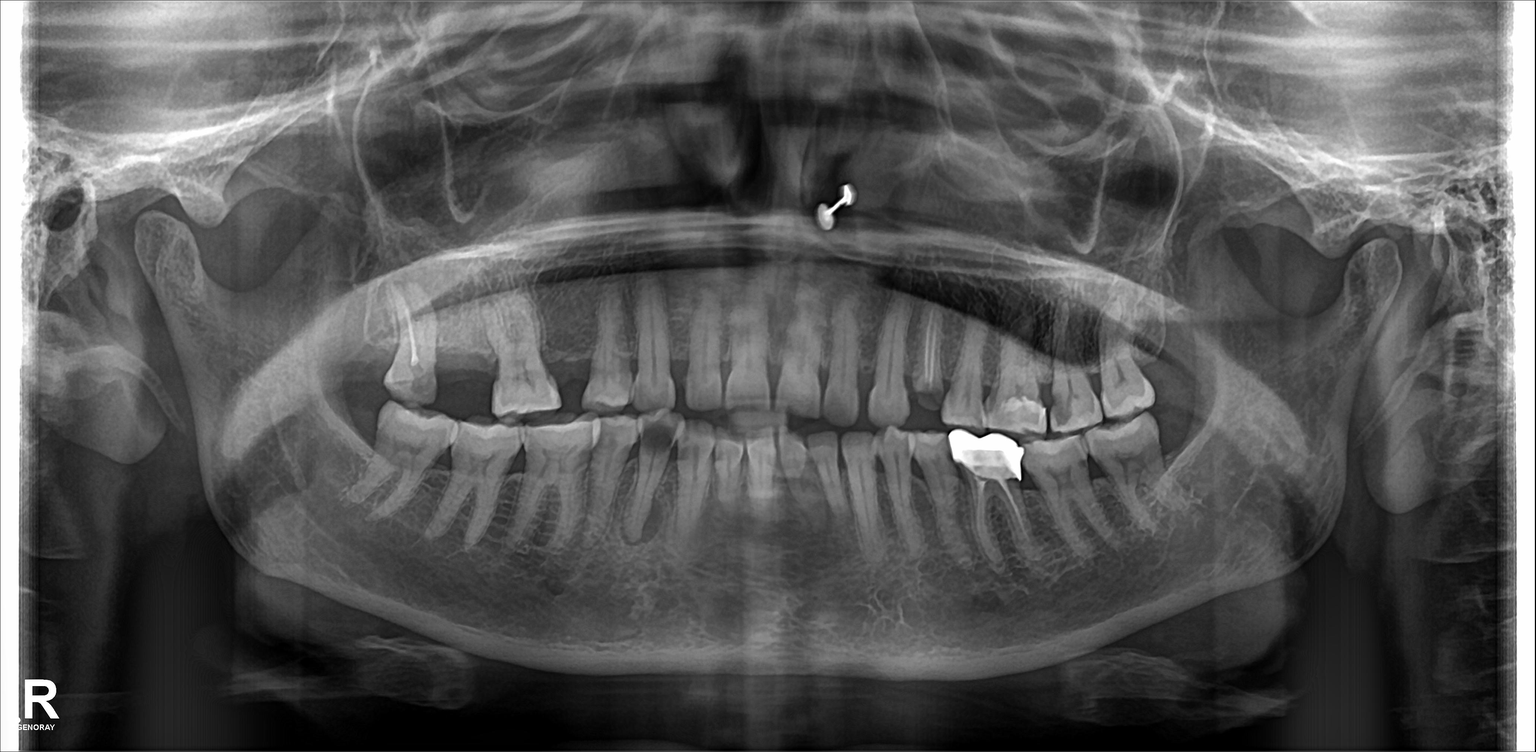Dental Caries: (641, 426, 673, 457)
Endodontically Treated Tooth: (961, 436, 1026, 570), (387, 292, 435, 395), (914, 318, 943, 402)
Missing Tooth: (434, 307, 493, 399), (345, 300, 386, 390), (335, 400, 377, 487), (1149, 311, 1198, 381), (551, 320, 584, 393), (1162, 400, 1196, 465)
Periapical Lesion: (603, 482, 678, 553)
